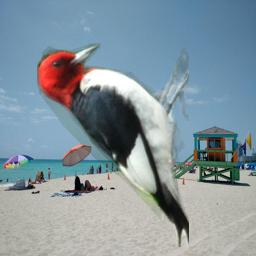Woodpecker: (37, 43, 189, 247)
